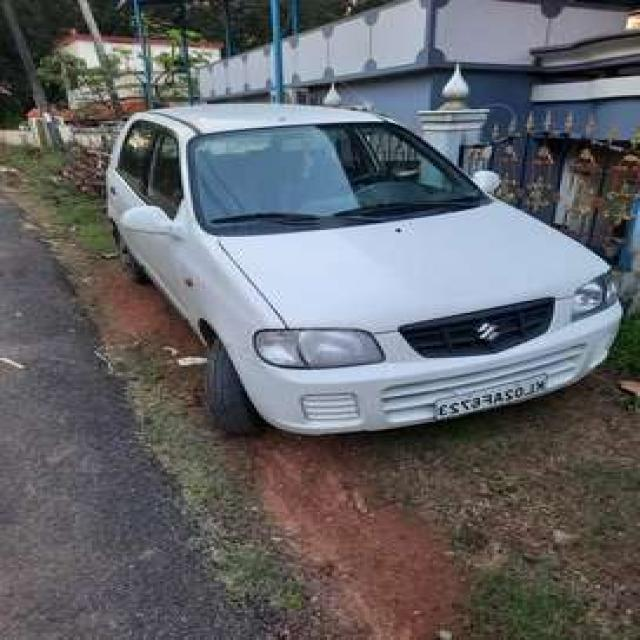license_plate: (426, 368, 552, 431)
